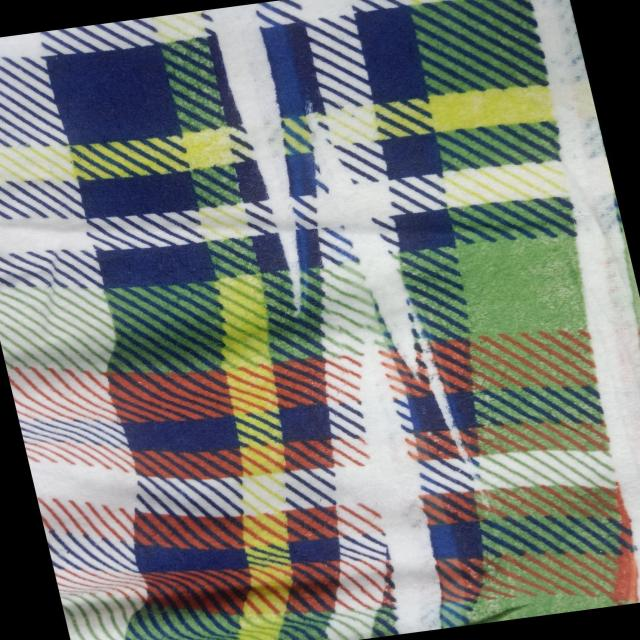selvet: (493, 4, 640, 604), (204, 3, 334, 320), (303, 100, 423, 370), (338, 370, 454, 634), (402, 290, 486, 469)
